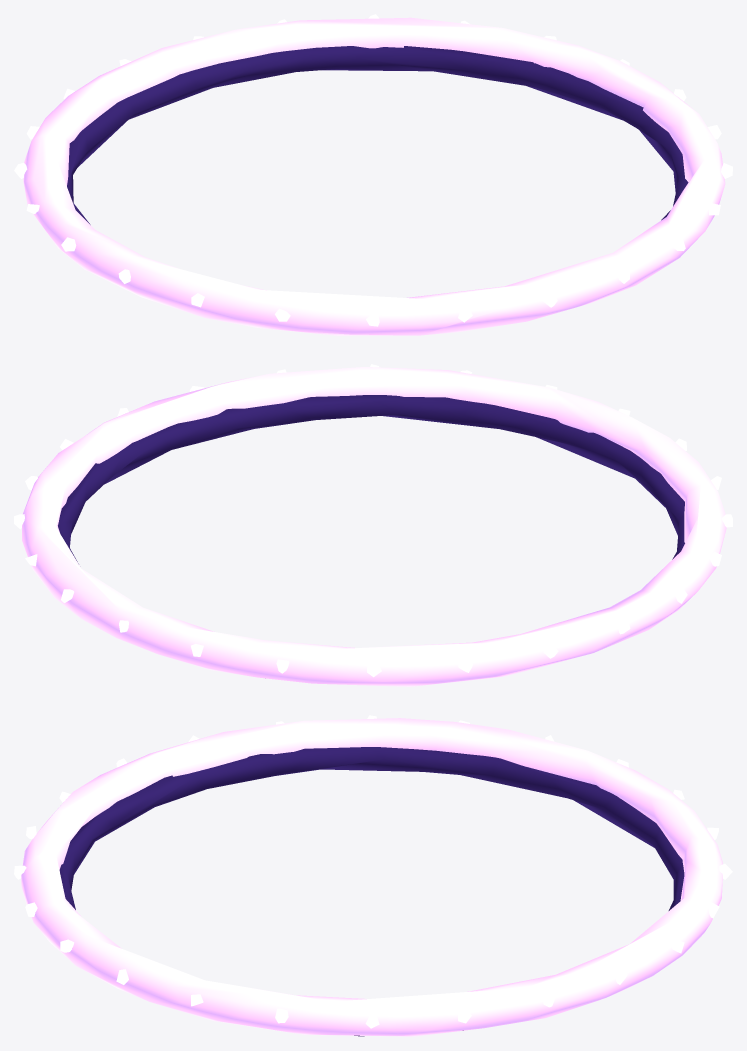
The model's file is hole_rim.glb.
3 views of the same model, one above another, from view 1: azimuth 30°, elevation 25°; view 2: azimuth 150°, elevation 25°; view 3: azimuth 270°, elevation 25° (orthographic).
Visible parts, largest first — view 1: hole_rim; view 2: hole_rim; view 3: hole_rim.
Boxes of the visible parts, left/top/right/bottom form: hole_rim: left=14, top=14, right=732, bottom=335; hole_rim: left=14, top=364, right=732, bottom=686; hole_rim: left=14, top=715, right=732, bottom=1036.
Size of the model in its own units: 2.16 by 0.1395 by 2.16.
1 material, 1 textured.
